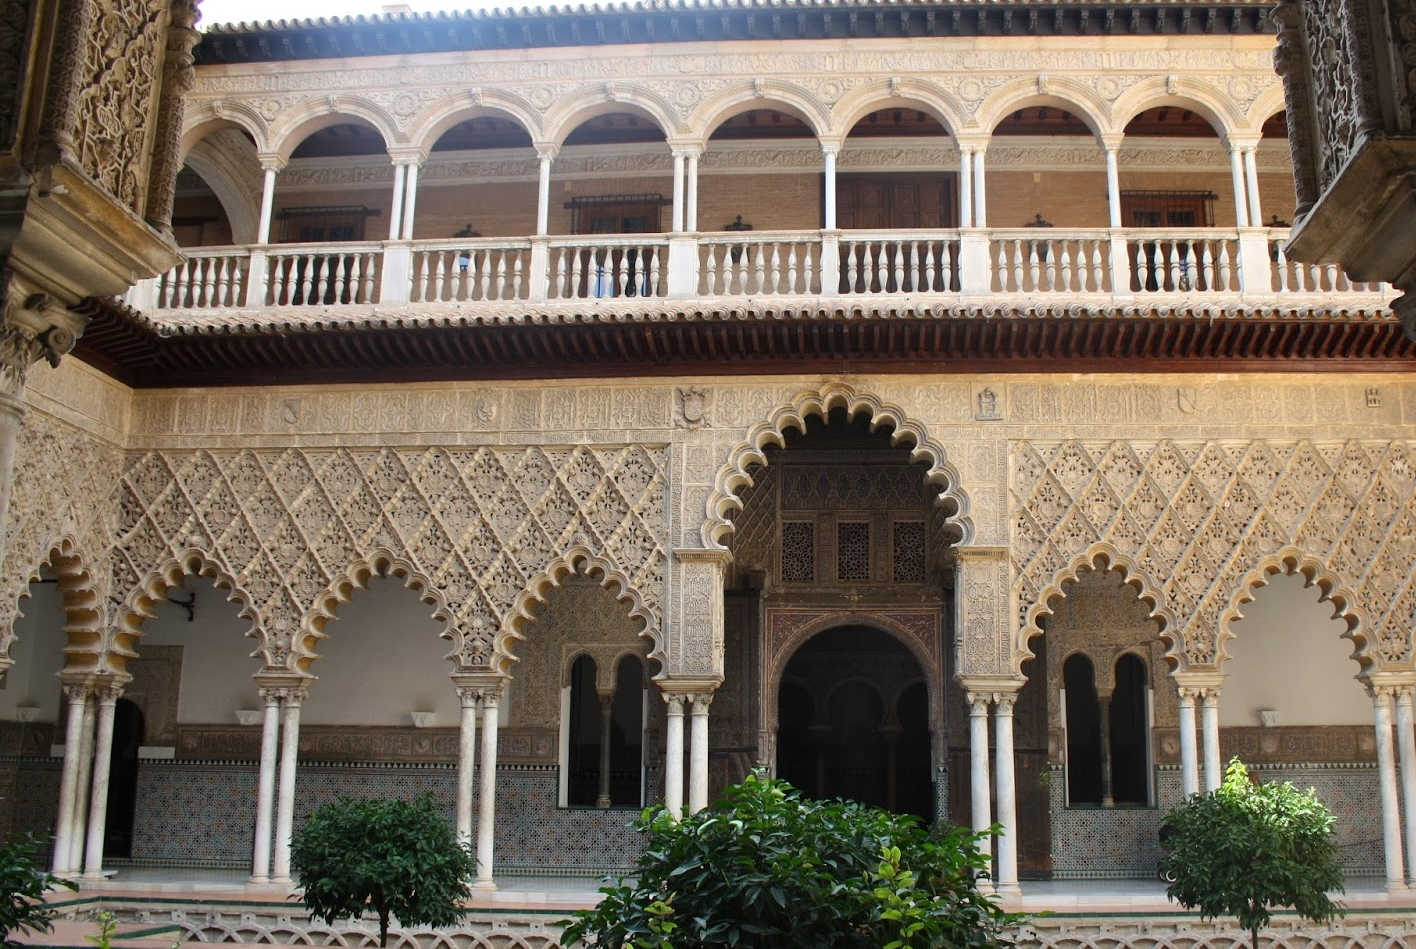arco-lobulado: (697, 376, 976, 559), (478, 540, 683, 708), (1195, 536, 1393, 706), (280, 541, 472, 709), (1005, 535, 1183, 712), (102, 538, 280, 708), (1, 522, 105, 708)
arco-medio-punto: (971, 70, 1114, 165), (829, 74, 970, 168), (406, 86, 545, 178), (688, 80, 834, 167), (543, 82, 683, 172), (1112, 73, 1242, 165), (270, 91, 404, 177), (176, 99, 270, 179)
